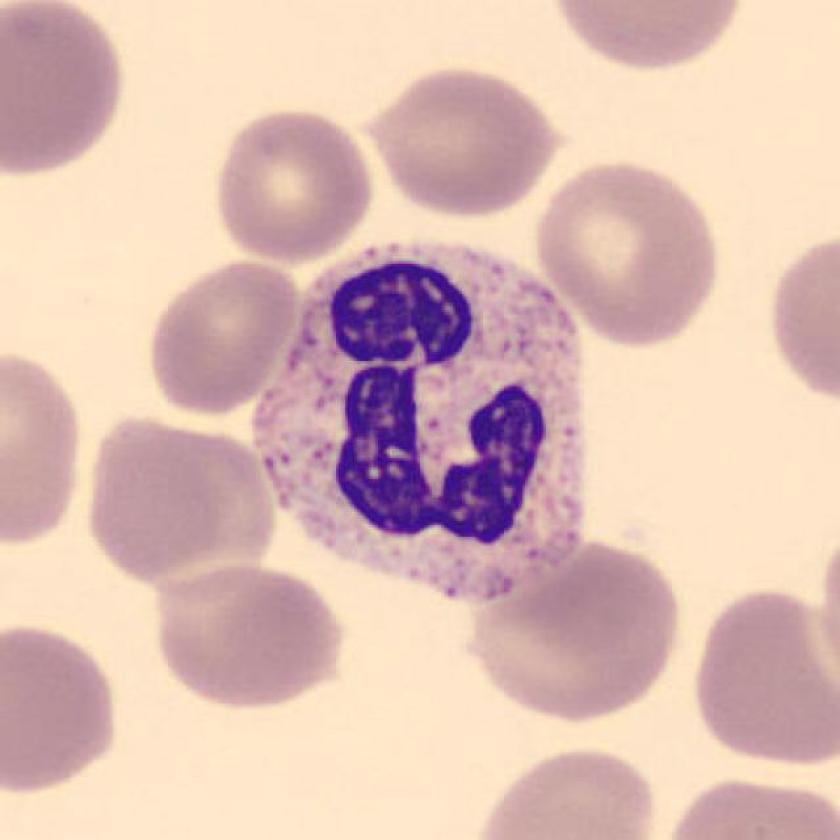neutrophil: (252, 244, 586, 607)
